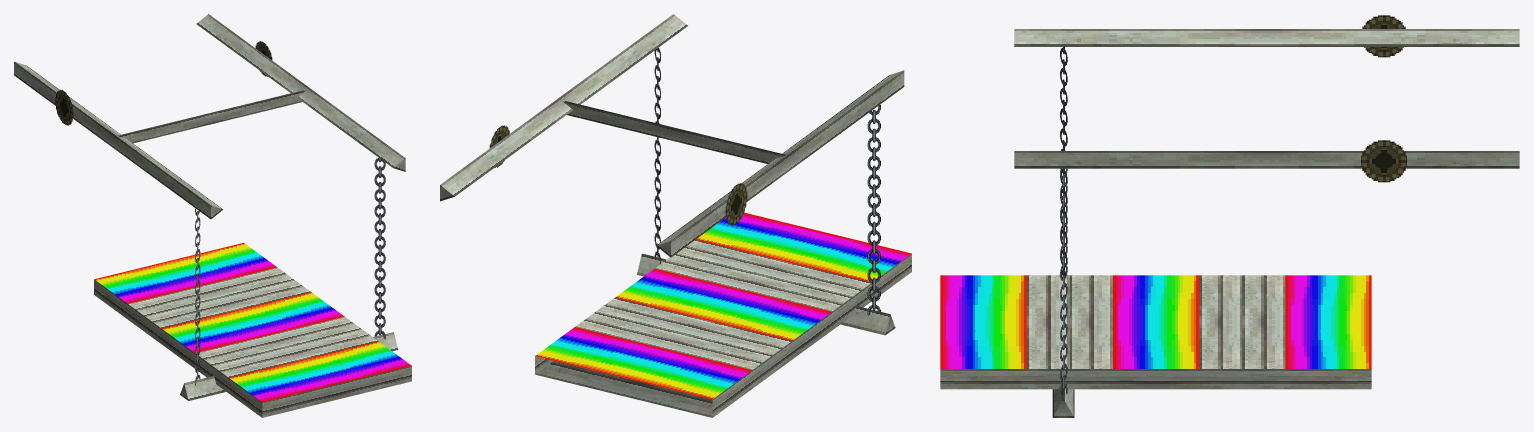
Rendered from test1_course-bridge.glb.
3 renders of one model, left to right at view 1: azimuth 30°, elevation 25°; view 2: azimuth 150°, elevation 25°; view 3: azimuth 270°, elevation 25°, orthographic. The views are drawn at different scales.
Parts seen in each view (by area): view 1: bridge; view 2: bridge; view 3: bridge.
Boxes of the visible parts, bbox=[...] form: bridge: bbox=[14, 14, 411, 417]; bridge: bbox=[440, 14, 911, 417]; bridge: bbox=[940, 15, 1519, 417].
Size of the model in its own units: 15.75 by 15.44 by 29.38.
Materials: 3 (3 with a texture image).
